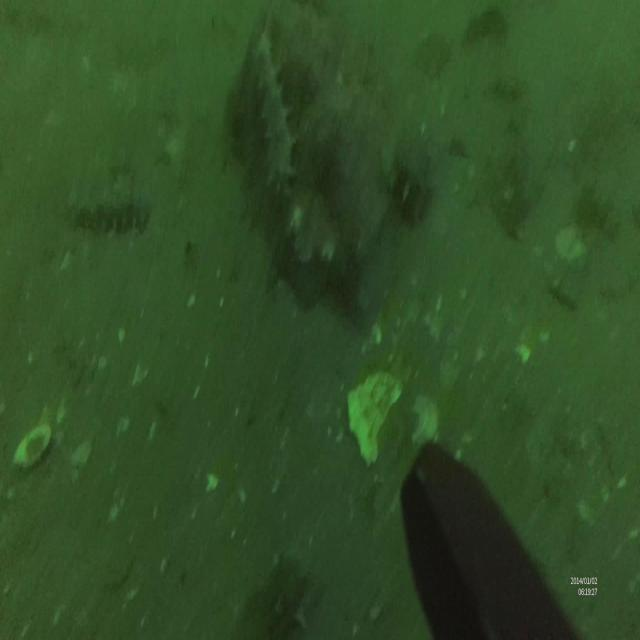holothurian: (250, 40, 296, 179), (70, 190, 153, 238)
